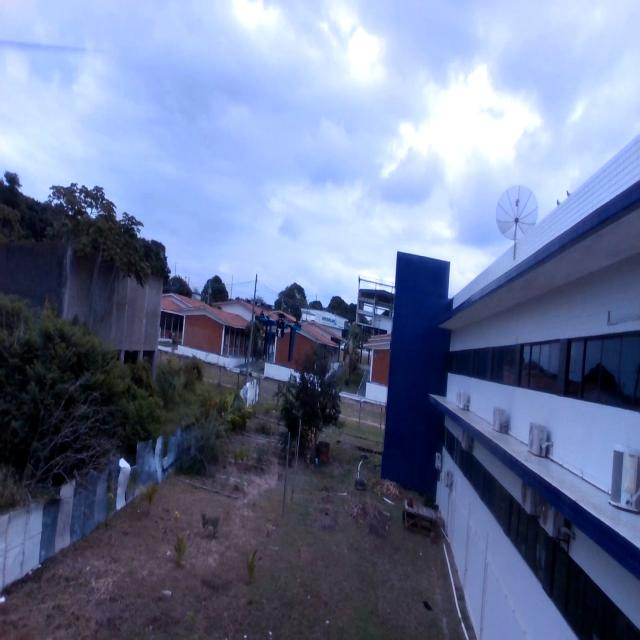-uav-: (243, 287, 315, 375)
